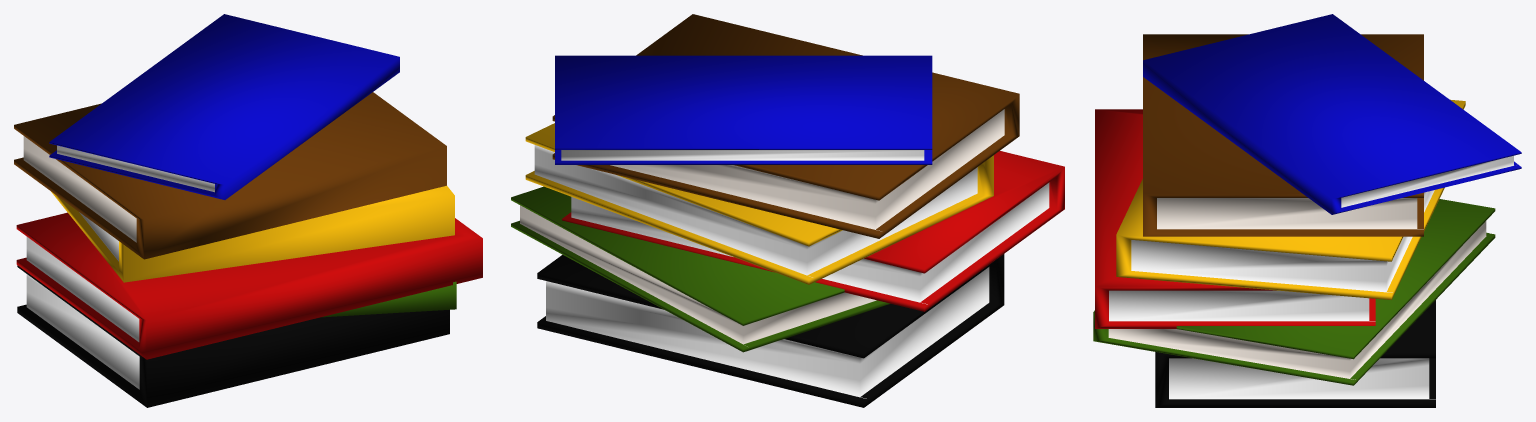
File: stackBooks.fbx
The picture shows the model from 3 angles, left to right: view 1: azimuth 30°, elevation 25°; view 2: azimuth 150°, elevation 25°; view 3: azimuth 270°, elevation 25°; orthographic projection. The views are drawn at different scales.
Visible parts, largest first — view 1: Model; view 2: Model; view 3: Model.
Part boxes in pixels (left/top/right/bottom): Model: left=14, top=14, right=482, bottom=407; Model: left=511, top=14, right=1064, bottom=407; Model: left=1093, top=14, right=1521, bottom=407.
Size of the model in its own units: 289 by 147 by 252.
